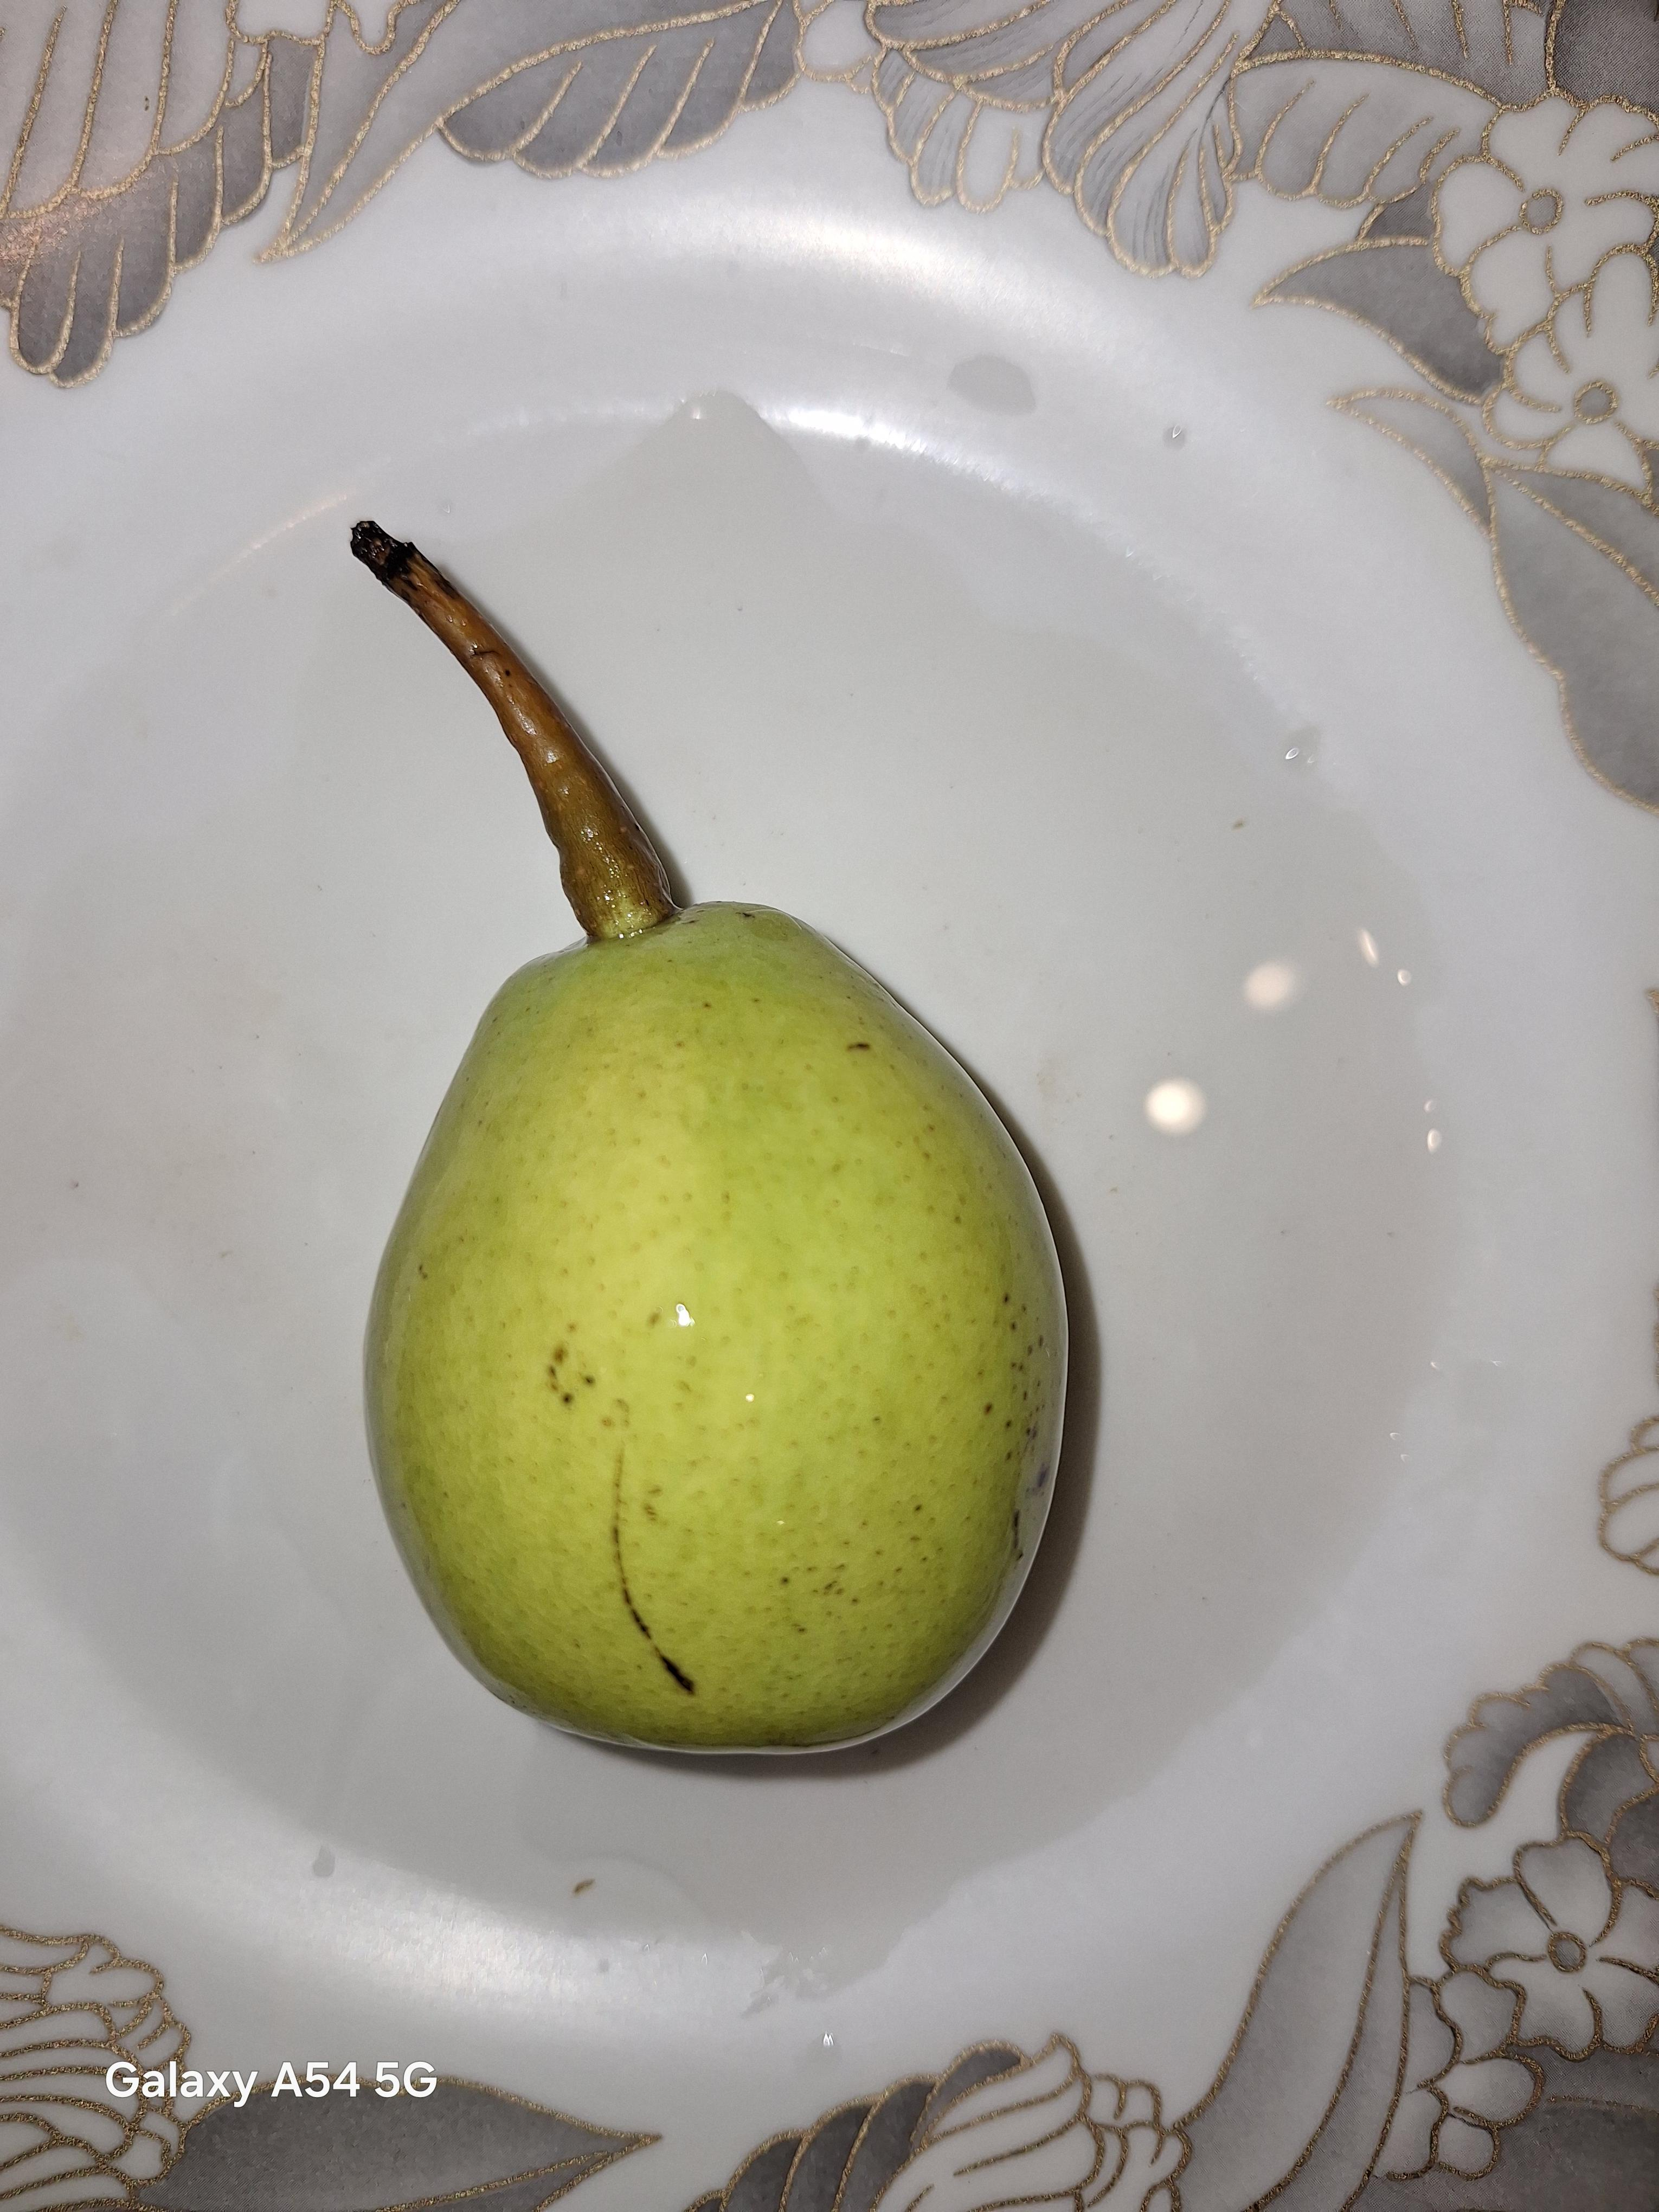non-mango: (352, 907, 1093, 1780)
